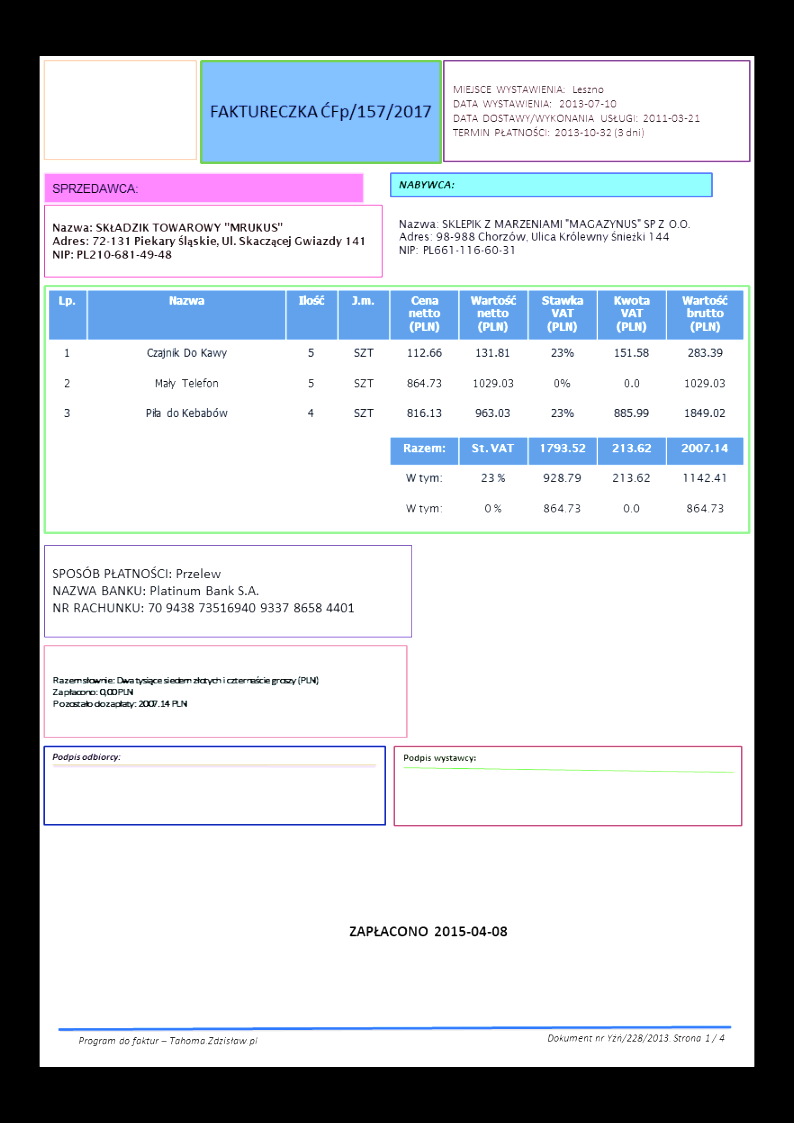Table: (46, 287, 743, 431), (387, 434, 746, 528)
TextBox: (47, 562, 358, 618), (446, 80, 704, 143), (49, 215, 366, 265), (394, 213, 693, 260), (50, 671, 324, 711), (203, 95, 434, 125), (72, 1028, 260, 1052), (341, 918, 511, 942), (545, 1030, 731, 1047), (47, 179, 140, 196), (49, 746, 123, 767), (395, 749, 478, 766), (395, 176, 455, 194)
